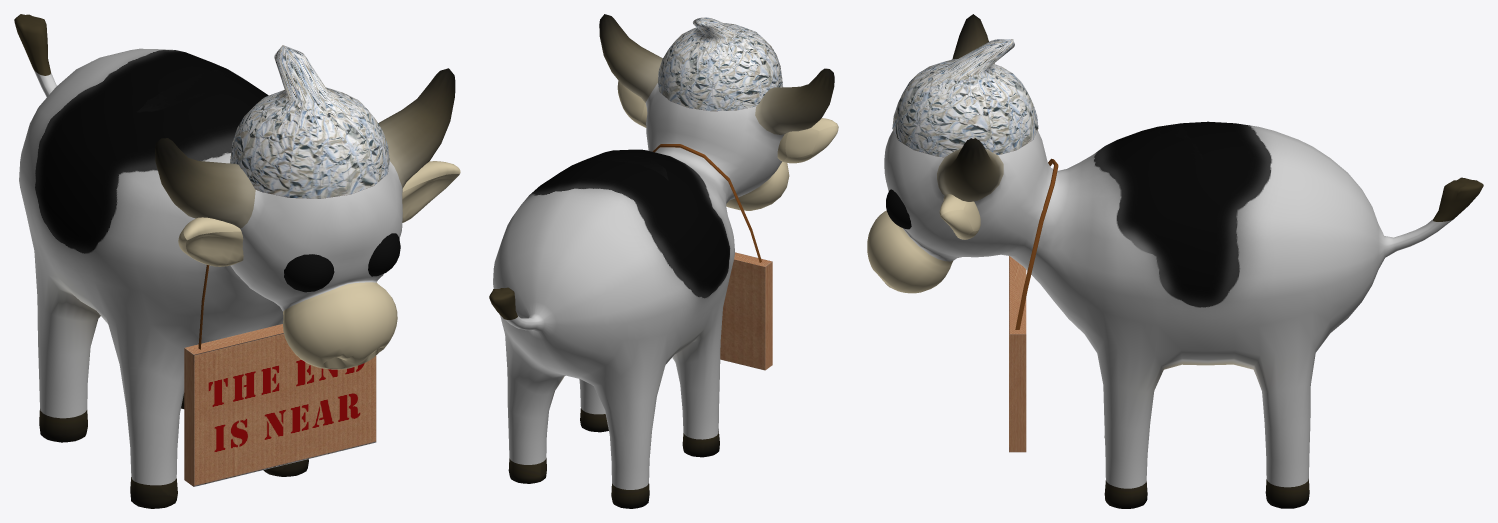
The model's file is Cow - tinfoil.fbx.
3 renders of one model, left to right at view 1: azimuth 30°, elevation 25°; view 2: azimuth 150°, elevation 25°; view 3: azimuth 270°, elevation 25°, orthographic. The views are drawn at different scales.
Parts seen in each view (by area): view 1: cow, pCube2, pSphere1, ear_right, ear_left, eyeball_right, eyeball_left; view 2: cow, pSphere1, pCube2, ear_right, ear_left, pCylinder1; view 3: cow, pSphere1, pCube2, ear_left, pCylinder1.
Boxes of the visible parts, x1=… form: cow: x1=14, y1=14, x2=455, y2=508; pCube2: x1=184, y1=324, x2=376, y2=486; pSphere1: x1=230, y1=45, x2=389, y2=198; ear_right: x1=178, y1=217, x2=243, y2=266; ear_left: x1=402, y1=161, x2=460, y2=222; eyeball_right: x1=284, y1=254, x2=334, y2=292; eyeball_left: x1=368, y1=233, x2=400, y2=276; cow: x1=489, y1=14, x2=834, y2=508; pSphere1: x1=658, y1=17, x2=782, y2=111; pCube2: x1=720, y1=252, x2=772, y2=370; ear_right: x1=777, y1=118, x2=838, y2=163; ear_left: x1=617, y1=81, x2=647, y2=127; pCylinder1: x1=652, y1=144, x2=761, y2=262; cow: x1=867, y1=14, x2=1483, y2=508; pSphere1: x1=892, y1=39, x2=1038, y2=157; pCube2: x1=1009, y1=256, x2=1026, y2=452; ear_left: x1=939, y1=194, x2=980, y2=239; pCylinder1: x1=1015, y1=158, x2=1058, y2=329.
Size of the model in its own units: 2.35 by 3.68 by 4.73.
